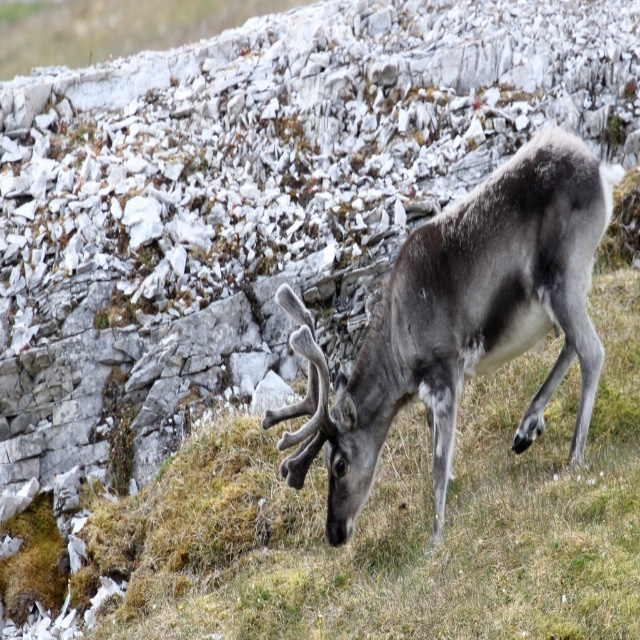Deer: (263, 121, 622, 559)
